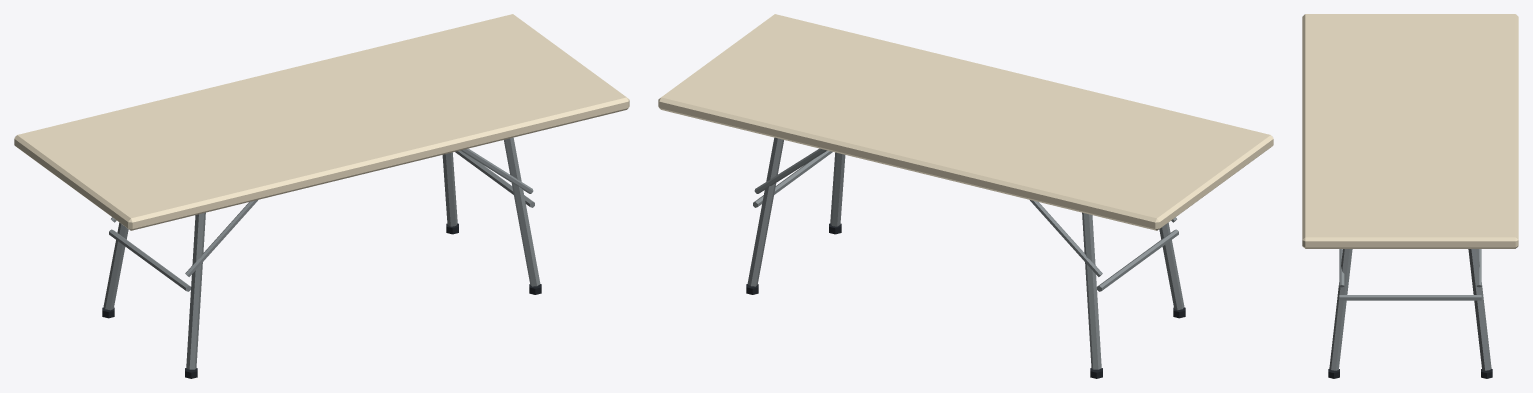
File: party_table_rect.glb
The picture shows the model from 3 angles, left to right: view 1: azimuth 30°, elevation 25°; view 2: azimuth 150°, elevation 25°; view 3: azimuth 270°, elevation 25°; orthographic projection. The views are drawn at different scales.
Visible parts, largest first — view 1: party_table_rect_body; view 2: party_table_rect_body; view 3: party_table_rect_body.
Part boxes in pixels (bbox=[...]): party_table_rect_body: bbox=[14, 14, 629, 378]; party_table_rect_body: bbox=[658, 14, 1273, 378]; party_table_rect_body: bbox=[1302, 14, 1518, 378].
Bounding box in the file's own units: 2.1 × 0.75 × 0.85.
3 materials, 3 textured.
